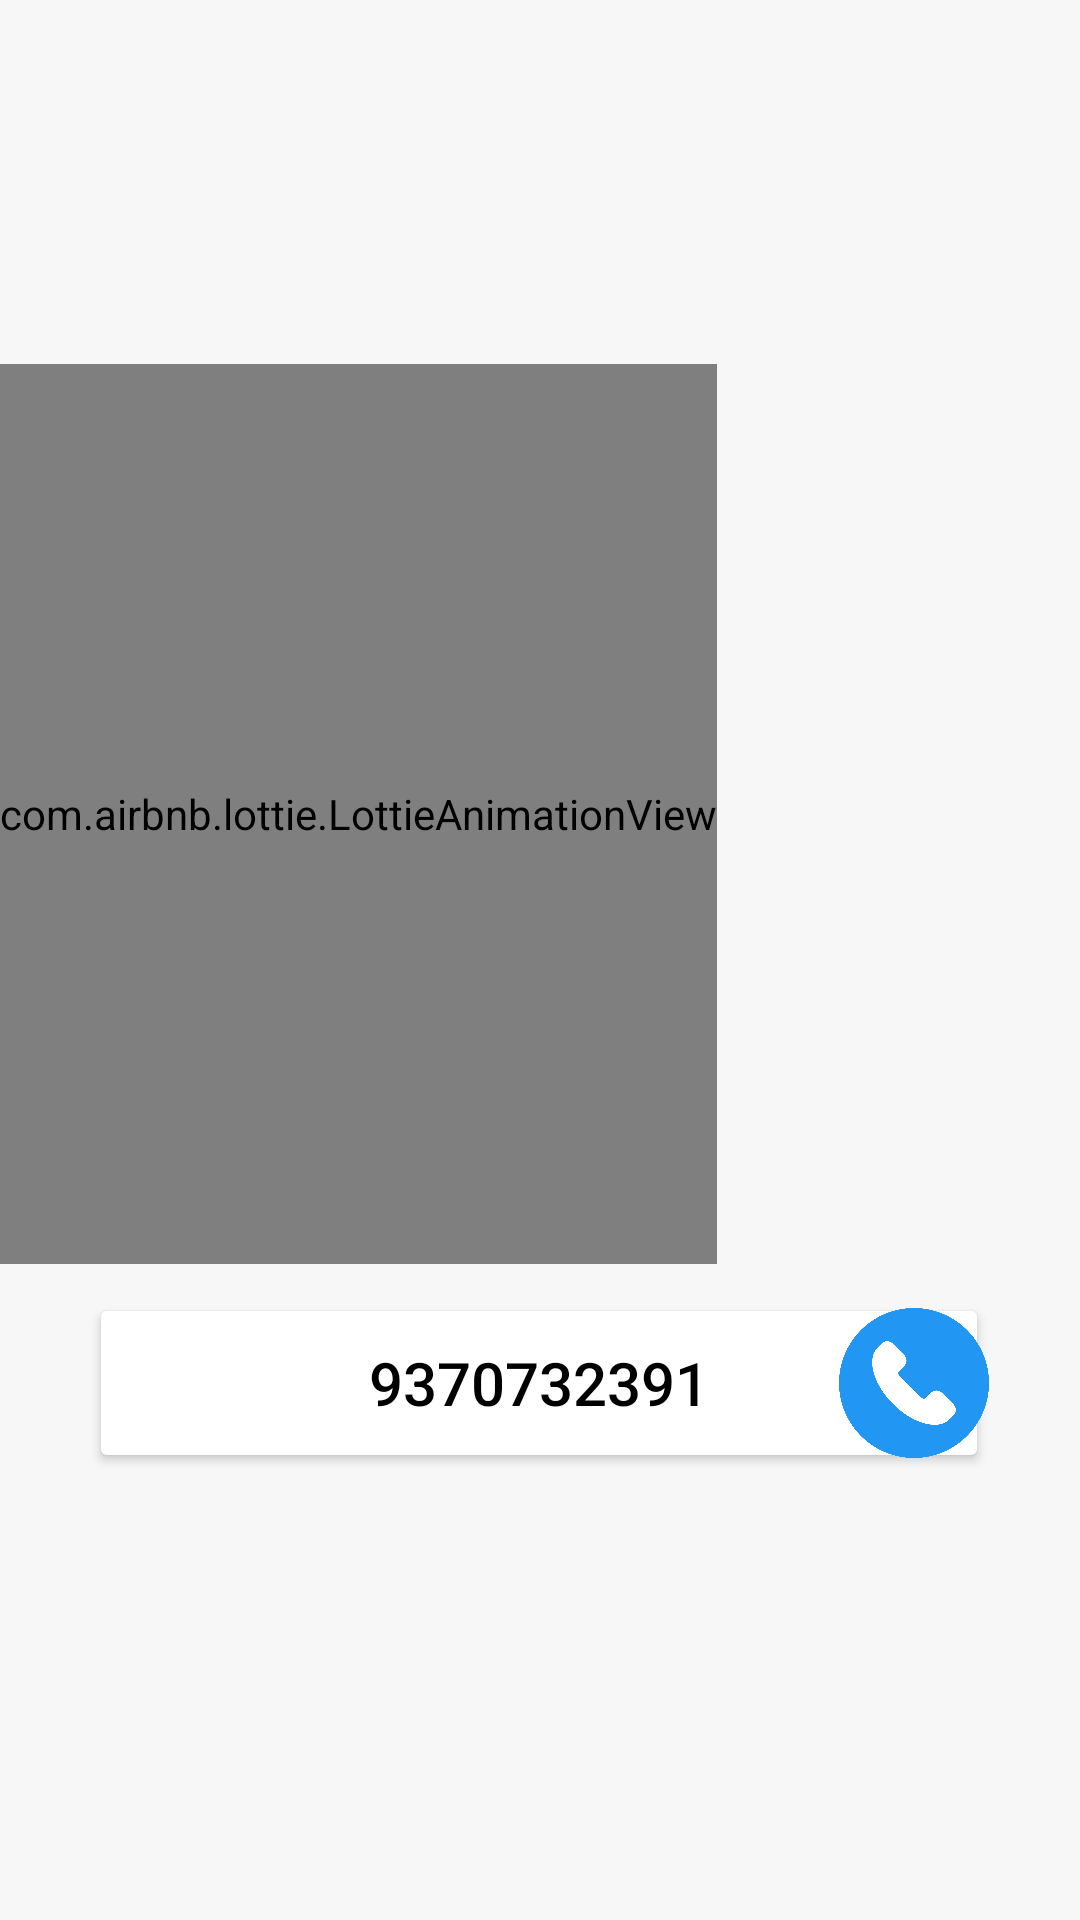

Where to tap for icons on this 1080 x 1920 app screen, as point (x, y):
kyccall: point (914, 1383)
